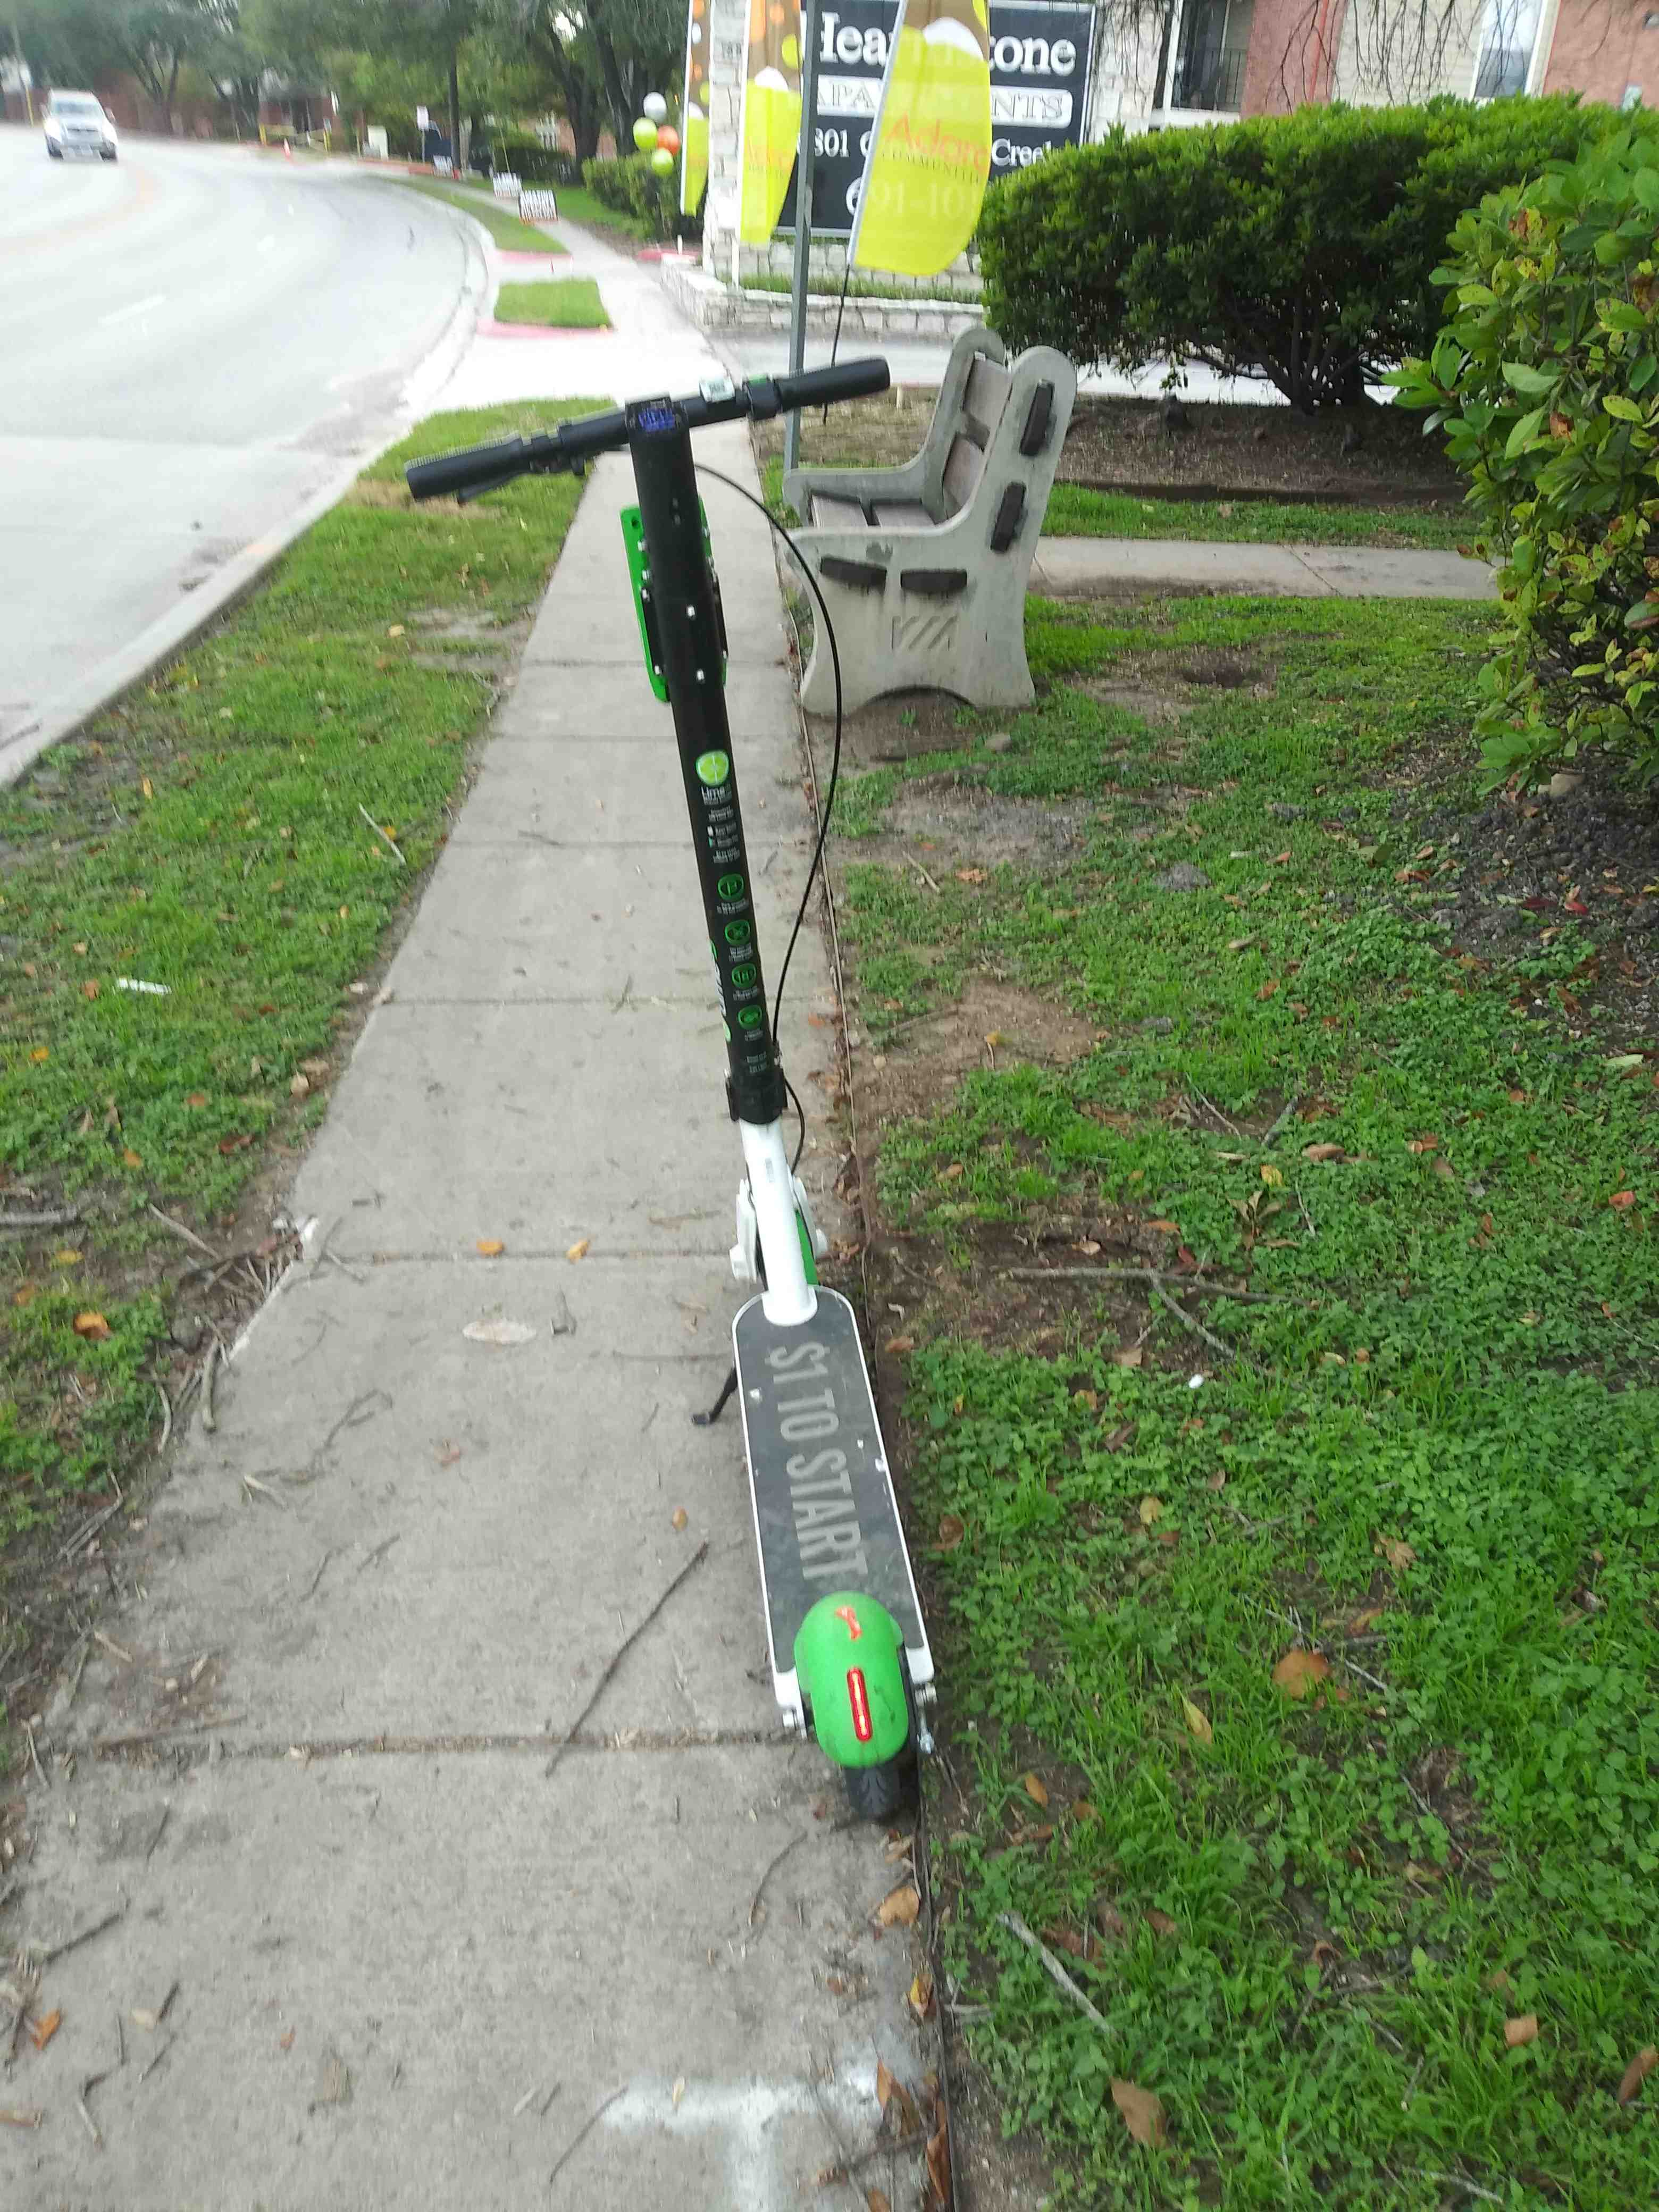scooter: (375, 350, 1037, 1843)
